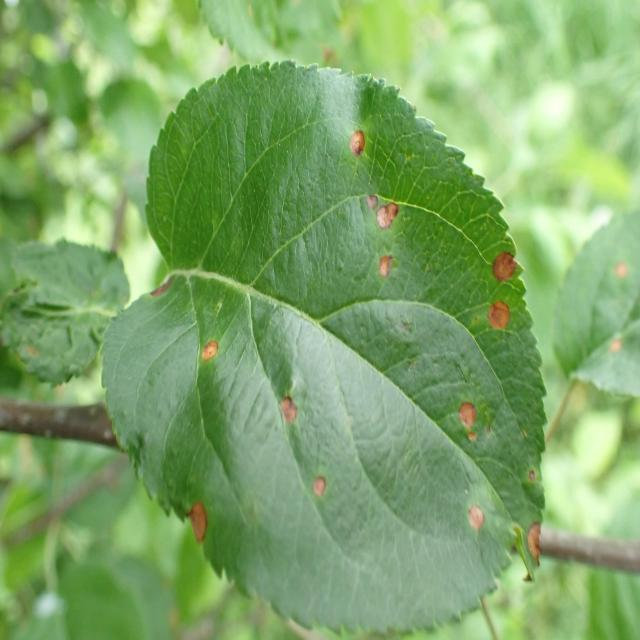Black Rot: (515, 511, 560, 586), (364, 190, 414, 247), (468, 300, 521, 348), (322, 118, 382, 160), (270, 367, 302, 445), (474, 240, 520, 290), (362, 248, 404, 300), (454, 396, 482, 455), (455, 498, 488, 548), (187, 493, 207, 558), (143, 278, 186, 305), (303, 470, 332, 510), (195, 333, 225, 369), (524, 460, 538, 502)
